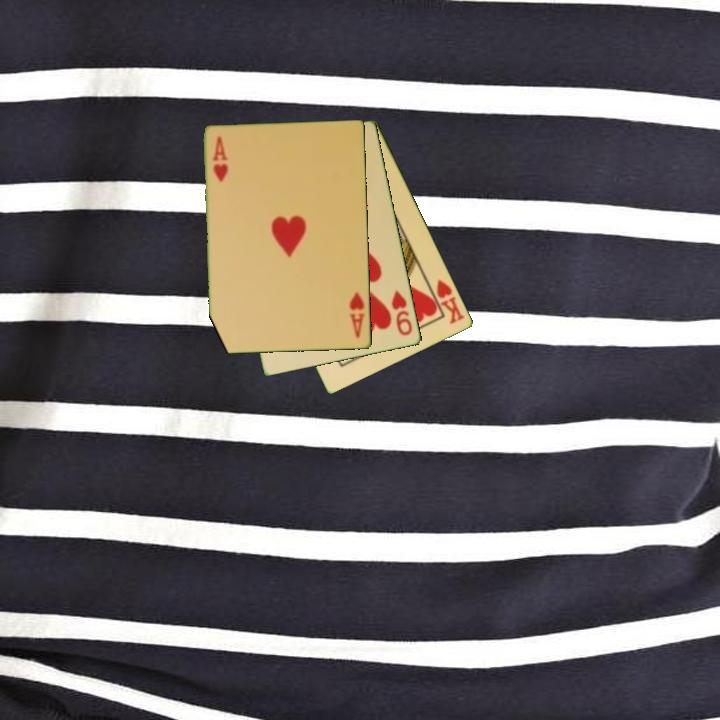9h: (388, 287, 415, 339)
Ah: (346, 289, 367, 341), (209, 133, 230, 185)
Kh: (425, 276, 468, 327)
